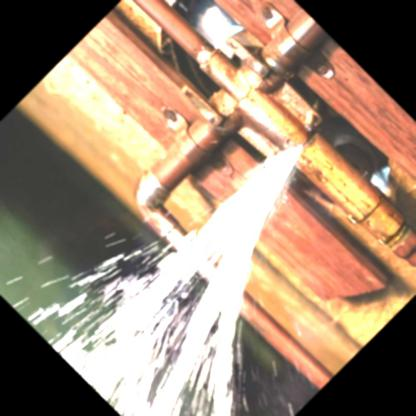burst: (237, 128, 319, 187)
